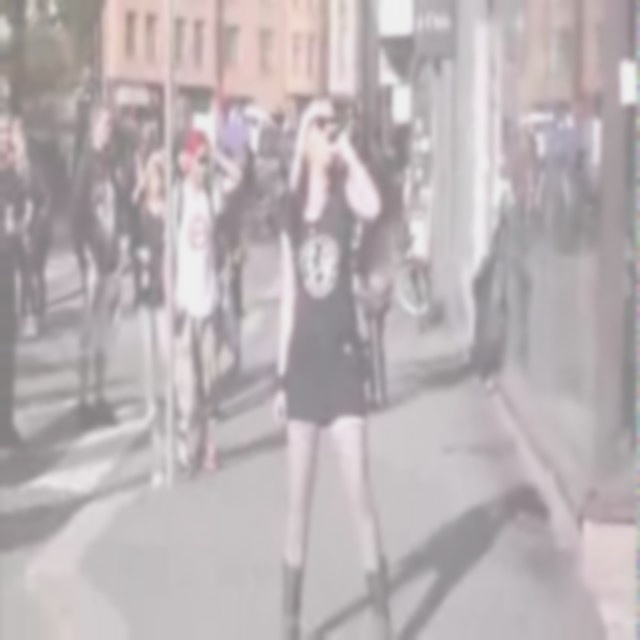pessoa: (268, 88, 400, 639), (160, 126, 246, 484), (68, 99, 128, 432), (124, 142, 190, 436), (350, 158, 392, 412), (0, 109, 44, 345), (211, 141, 249, 391), (17, 128, 57, 344), (6, 110, 36, 346), (622, 108, 640, 434), (545, 97, 579, 224), (501, 122, 542, 210), (582, 90, 604, 212), (128, 180, 146, 320), (70, 98, 90, 182), (174, 145, 190, 223), (280, 122, 298, 182), (127, 134, 152, 177), (240, 135, 257, 194), (340, 104, 362, 144), (270, 100, 286, 121), (0, 70, 11, 100)
